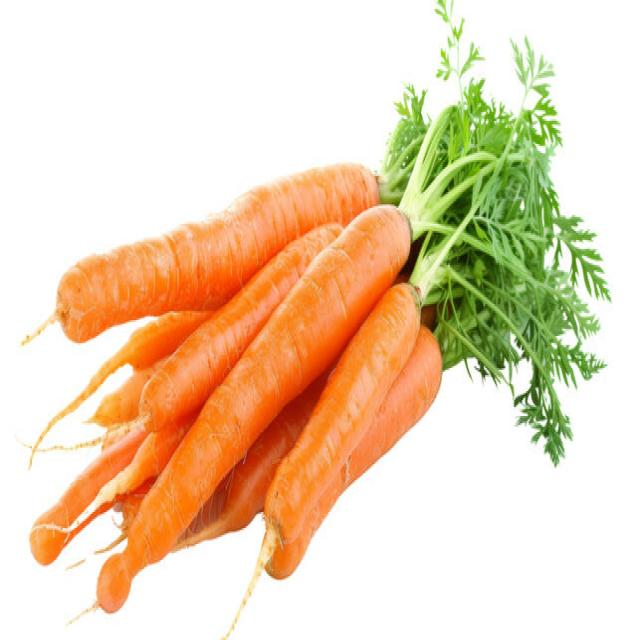Carrot: (66, 202, 414, 620), (221, 290, 442, 634), (20, 160, 381, 347), (95, 366, 326, 567), (133, 217, 344, 434), (27, 306, 214, 468), (28, 420, 150, 566)
